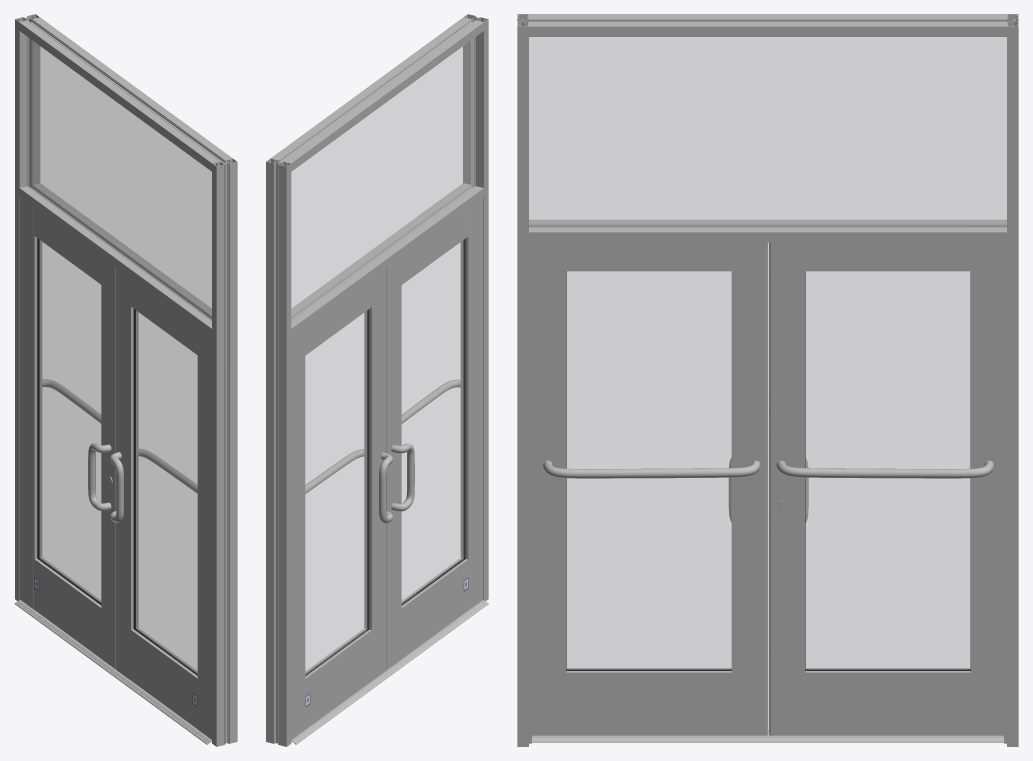
The model's file is Transomed_D500_Pair_Animated_AL.glb.
3 renders of one model, left to right at view 1: azimuth 30°, elevation 25°; view 2: azimuth 150°, elevation 25°; view 3: azimuth 270°, elevation 25°, orthographic. The views are drawn at different scales.
Visible parts, largest first — view 1: D500.030, D500.029, D500.016, PROFILE_curve_.018, D500, D500.025, PROFILE_curve_.023, D500.001, PROFILE_curve_.019, D500.010, D500.011, D500.026 (+14 smaller); view 2: D500.030, D500.016, D500.029, PROFILE_curve_.022, D500.001, D500.010, PROFILE_curve_.019, D500.025, D500, PROFILE_curve_.023, D500.011, D500.026 (+14 smaller); view 3: D500.030, D500.016, D500.029, D500.025, D500.010, D500.001, D500, D500.026, D500.011, PROFILE_curve_.023, PROFILE_curve_.019, PROFILE_curve_.008 (+10 smaller).
Boxes of the visible parts, x1=… form: D500.030: x1=28, y1=38, x2=211, y2=319; D500.029: x1=134, y1=309, x2=197, y2=674; D500.016: x1=37, y1=239, x2=100, y2=603; PROFILE_curve_.018: x1=218, y1=161, x2=235, y2=746; D500: x1=20, y1=197, x2=42, y2=609; D500.025: x1=116, y1=267, x2=138, y2=680; PROFILE_curve_.023: x1=15, y1=14, x2=40, y2=601; D500.001: x1=197, y1=327, x2=211, y2=739; PROFILE_curve_.019: x1=212, y1=158, x2=237, y2=746; D500.010: x1=101, y1=256, x2=115, y2=669; D500.011: x1=34, y1=557, x2=101, y2=658; D500.026: x1=131, y1=628, x2=197, y2=728; D500.030: x1=291, y1=38, x2=474, y2=319; D500.016: x1=305, y1=310, x2=368, y2=674; D500.029: x1=402, y1=239, x2=465, y2=604; PROFILE_curve_.022: x1=268, y1=162, x2=284, y2=746; D500.001: x1=460, y1=197, x2=483, y2=609; D500.010: x1=364, y1=268, x2=386, y2=680; PROFILE_curve_.019: x1=463, y1=14, x2=488, y2=601; D500.025: x1=386, y1=257, x2=401, y2=669; D500: x1=291, y1=327, x2=305, y2=739; PROFILE_curve_.023: x1=266, y1=158, x2=291, y2=746; D500.011: x1=305, y1=628, x2=371, y2=729; D500.026: x1=401, y1=558, x2=468, y2=658; D500.030: x1=529, y1=37, x2=1006, y2=226; D500.016: x1=806, y1=271, x2=970, y2=670; D500.029: x1=567, y1=271, x2=731, y2=670; D500.025: x1=731, y1=242, x2=768, y2=735; D500.010: x1=769, y1=242, x2=805, y2=735; D500.001: x1=532, y1=242, x2=566, y2=735; D500: x1=971, y1=242, x2=1003, y2=735; D500.026: x1=566, y1=668, x2=731, y2=735; D500.011: x1=805, y1=668, x2=970, y2=735; PROFILE_curve_.023: x1=1007, y1=14, x2=1018, y2=746; PROFILE_curve_.019: x1=517, y1=14, x2=528, y2=746; PROFILE_curve_.008: x1=529, y1=219, x2=1006, y2=242.
Size of the model in its own units: 0.2162 by 3.05 by 1.92.
7 materials, 1 textured.
